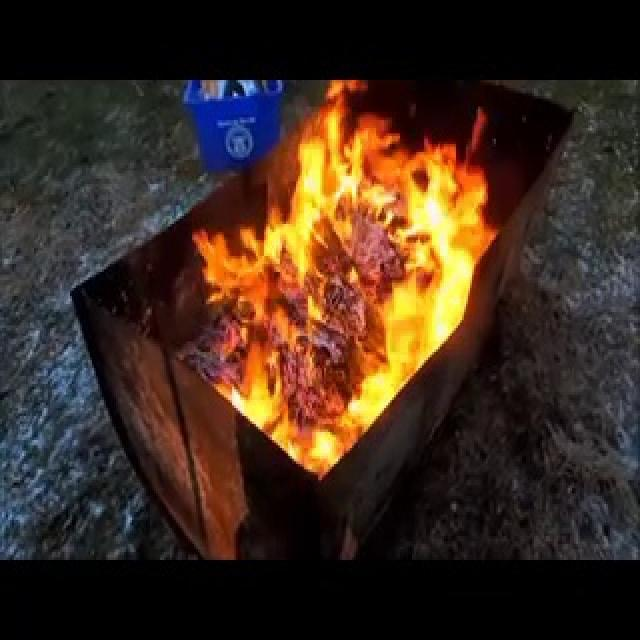Fire: (180, 82, 509, 444)
